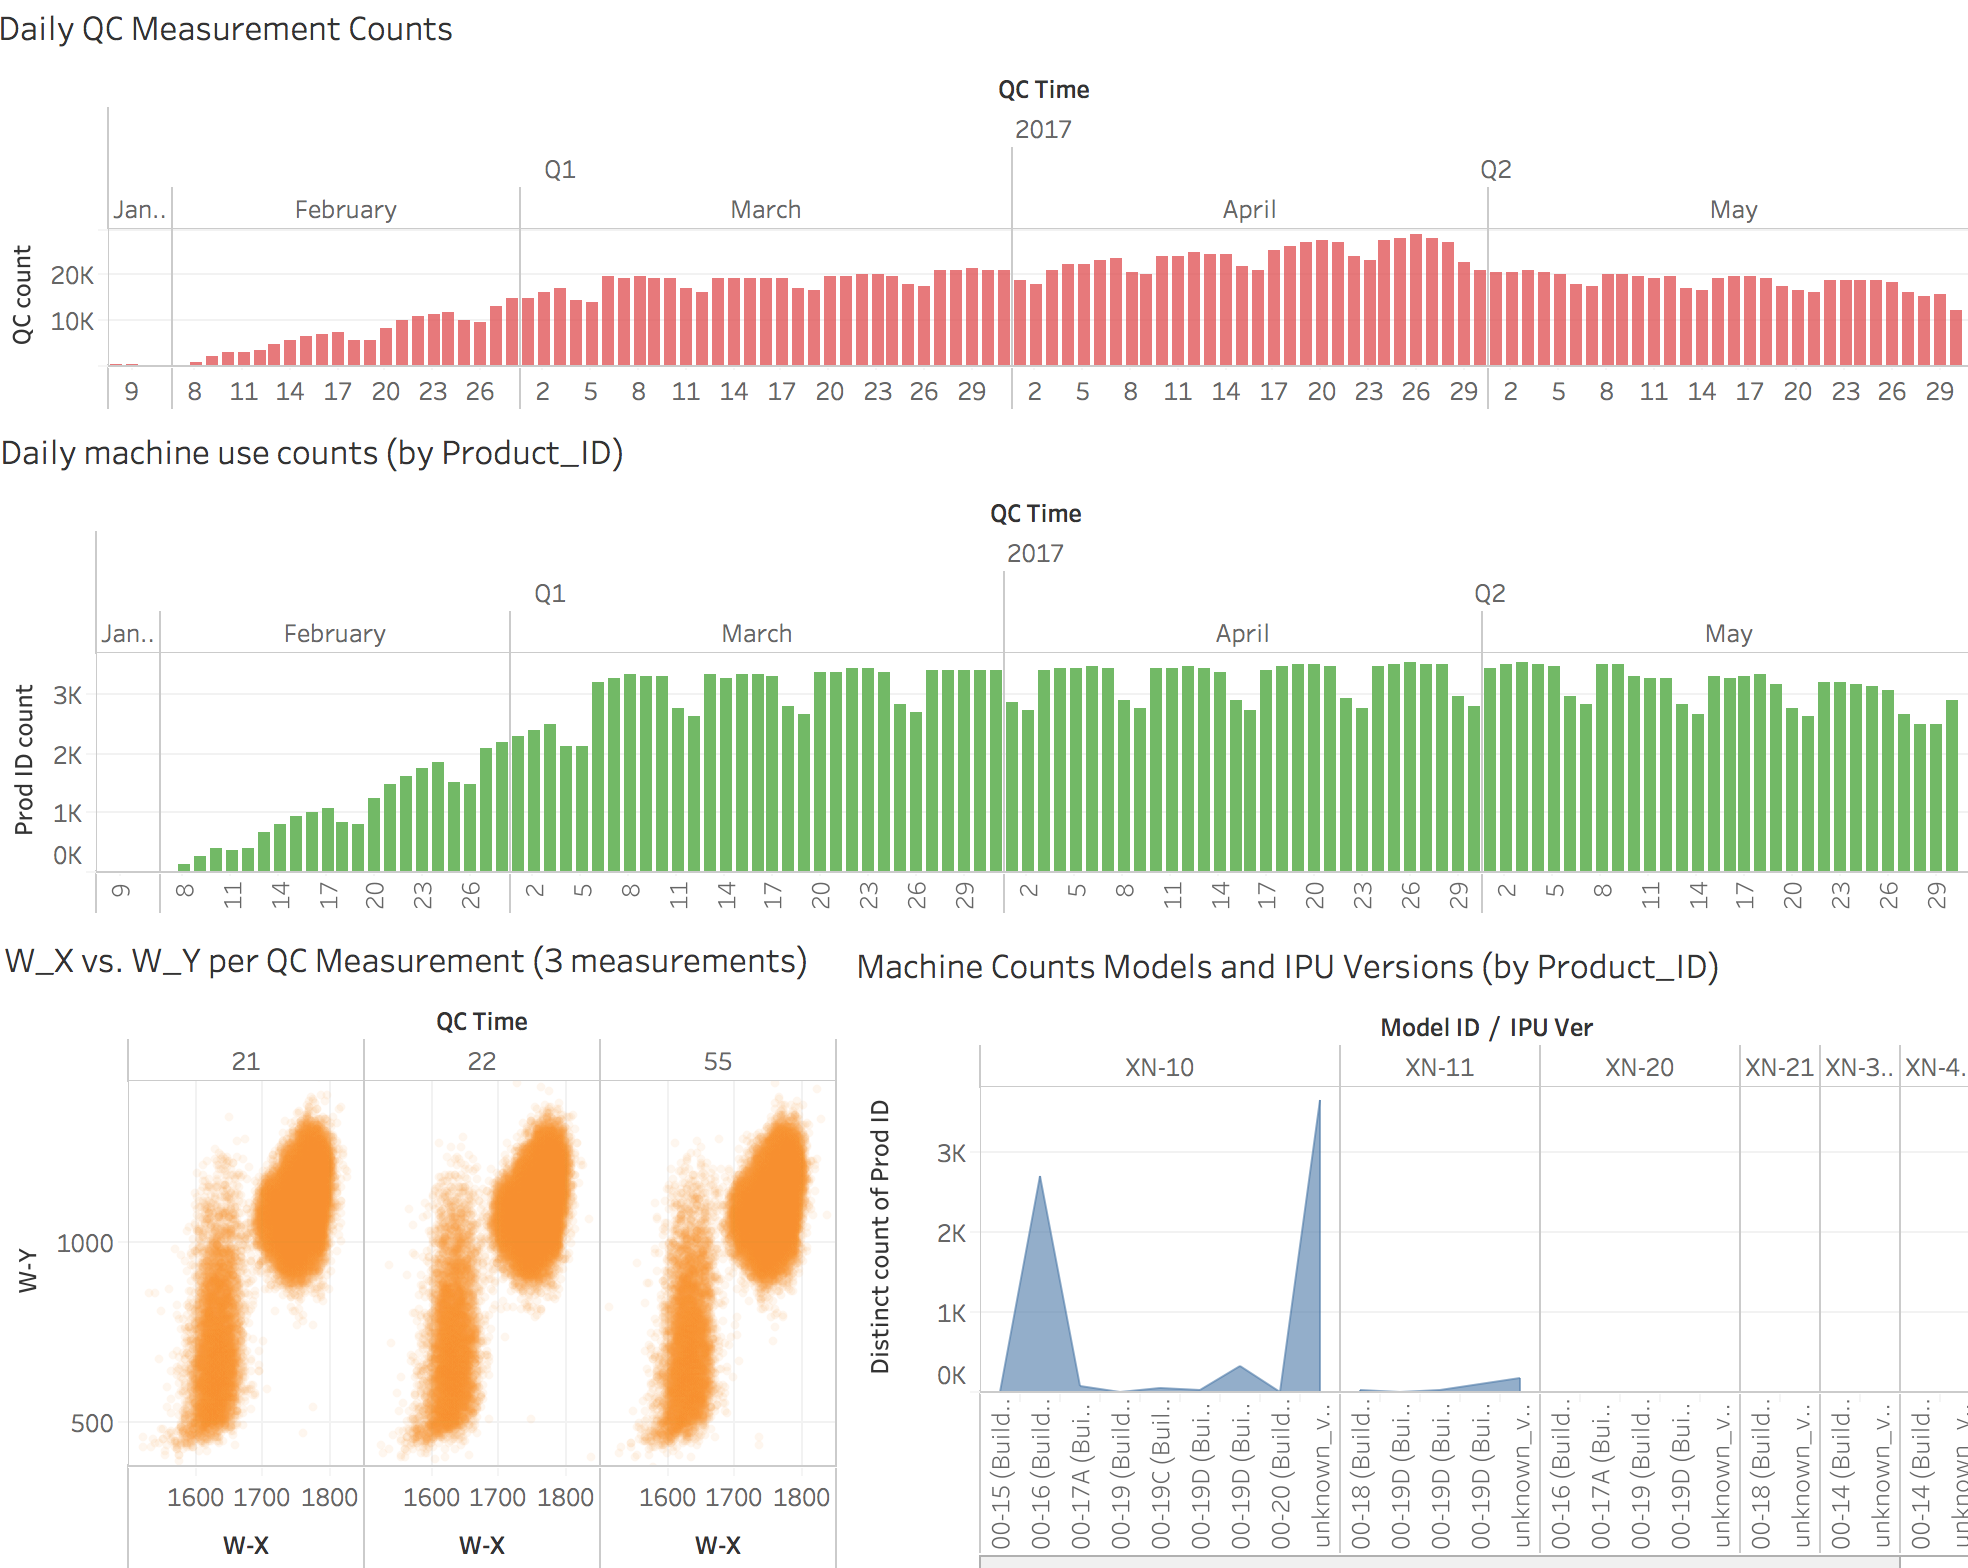

The page's visual inventory and layout, read from the dashboard file:
{"tool":"tableau","page":{"name":"Dashboard 1","canvas":[1000,800],"ordinal":0},"visuals":[{"type":"worksheet","title":"Sheet 5","mark":"Bar","rows":["QC_Time"],"cols":["QC_Time","QC_Time","QC_Time","QC_Time"],"box":[3,4,996,209]},{"type":"worksheet","title":"Sheet 6","mark":"Bar","rows":["Prod_ID"],"cols":["QC_Time","QC_Time","QC_Time","QC_Time"],"box":[4,216,993,249]},{"type":"worksheet","title":"Sheet 4","mark":"Automatic","rows":["W-Y"],"cols":["QC_Time","W-X"],"box":[6,470,421,327]}]}

Visuals, with their boxes in screenshot pixels (x1, y1, x2, y2), scaled from the page's 1000x800 canvas onto the 1968x1568 screenshot:
"Sheet 5" worksheet (Bar marks): (6,8,1966,417)
"Sheet 6" worksheet (Bar marks): (8,423,1962,911)
"Sheet 4" worksheet: (12,921,840,1562)
